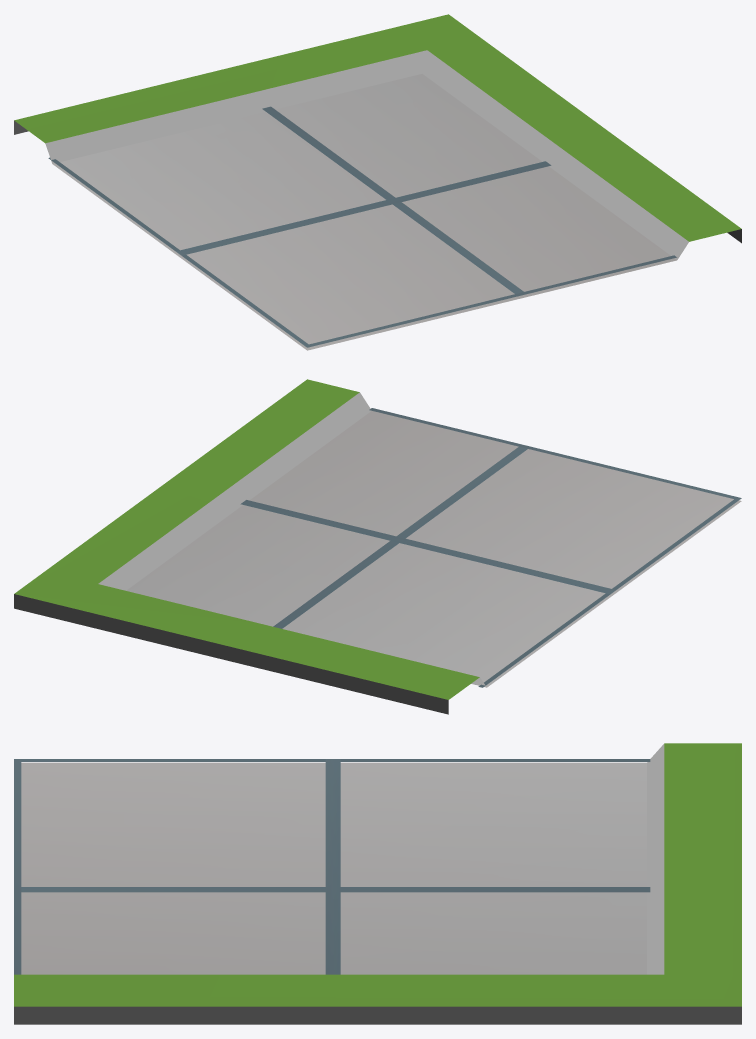
Rendered from Corner.fbx.
The picture shows the model from 3 angles, top to bottom: view 1: azimuth 30°, elevation 25°; view 2: azimuth 150°, elevation 25°; view 3: azimuth 270°, elevation 25°; orthographic projection. The views are drawn at different scales.
Visible parts, largest first — view 1: Corner_Tile.006; view 2: Corner_Tile.006; view 3: Corner_Tile.006.
Boxes of the visible parts, x1=… form: Corner_Tile.006: x1=14, y1=14, x2=741, y2=350; Corner_Tile.006: x1=14, y1=379, x2=741, y2=714; Corner_Tile.006: x1=14, y1=743, x2=741, y2=1024.
Size of the model in its own units: 0.7698 by 0.0265 by 0.8995.
